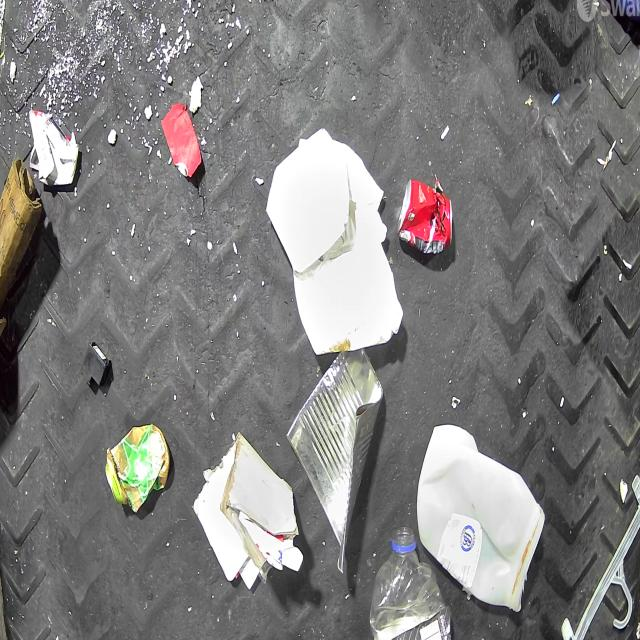can: (397, 178, 453, 256)
milk_jug: (416, 423, 546, 612)
plastic_bottle: (368, 523, 453, 640)
